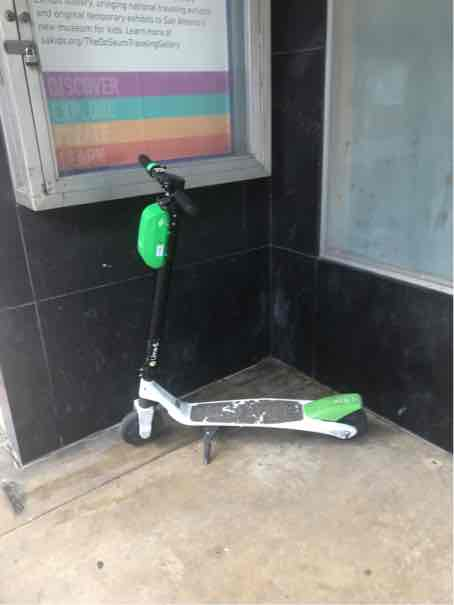scooter: (106, 144, 384, 460)
